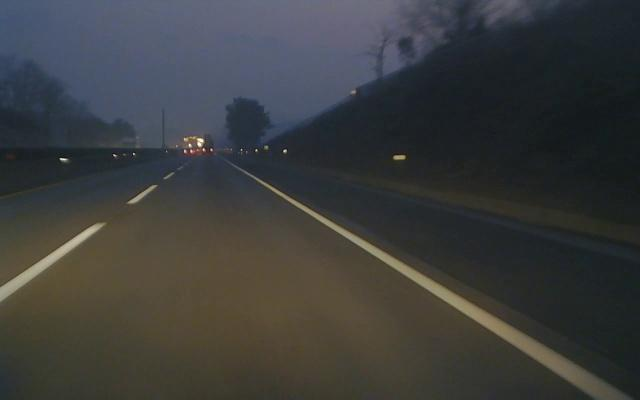lane: (228, 165, 627, 400), (0, 159, 191, 307)
